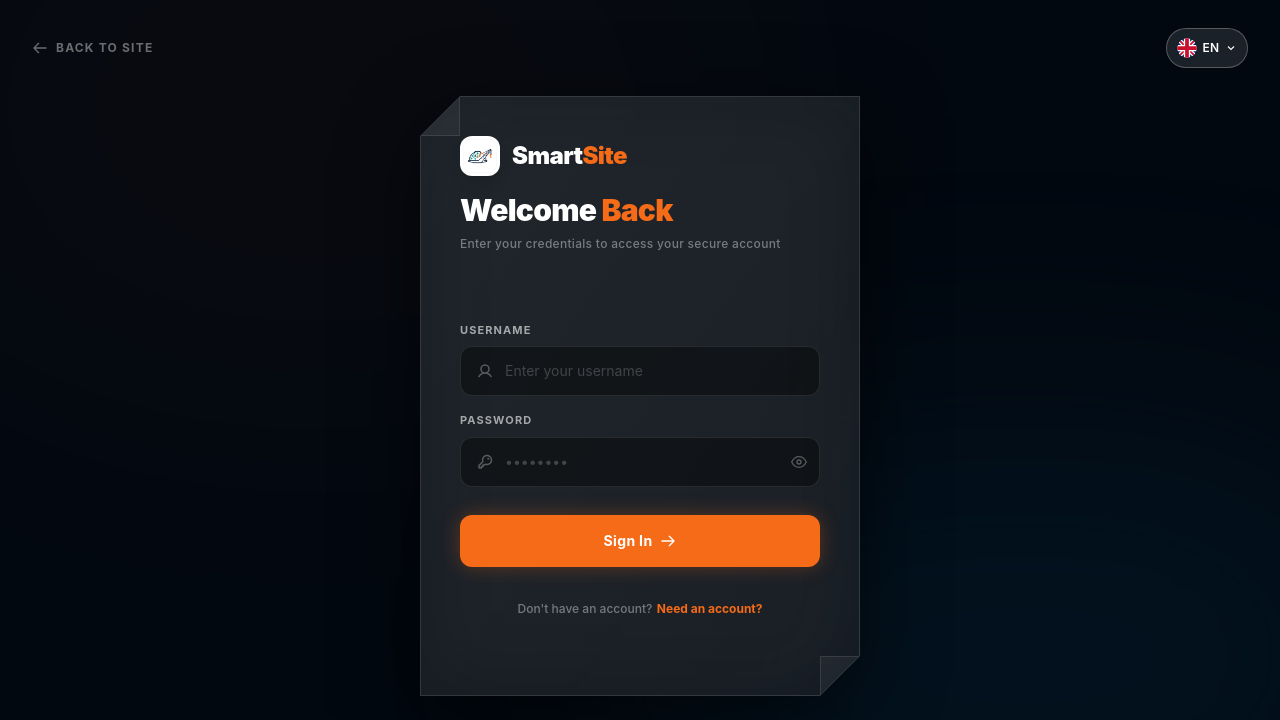
Test: keeps entered credentials and the network error visible when sign-in fails
Step 1. Type "worker" into the field labelled "Username" → {"x": 654, "y": 371}, box [505, 361, 803, 381]
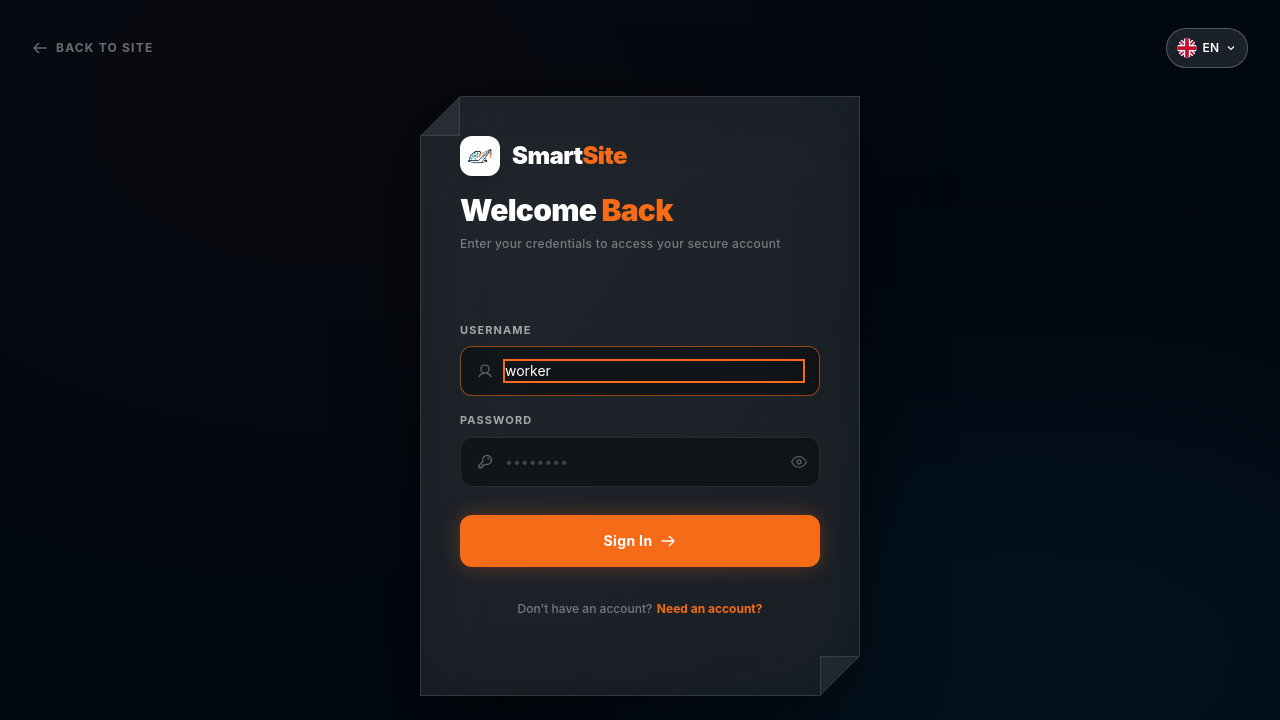
Step 2. Type "SyntheticPassword1!" into the password field labelled "Password" → {"x": 656, "y": 462}, box [505, 452, 807, 472]
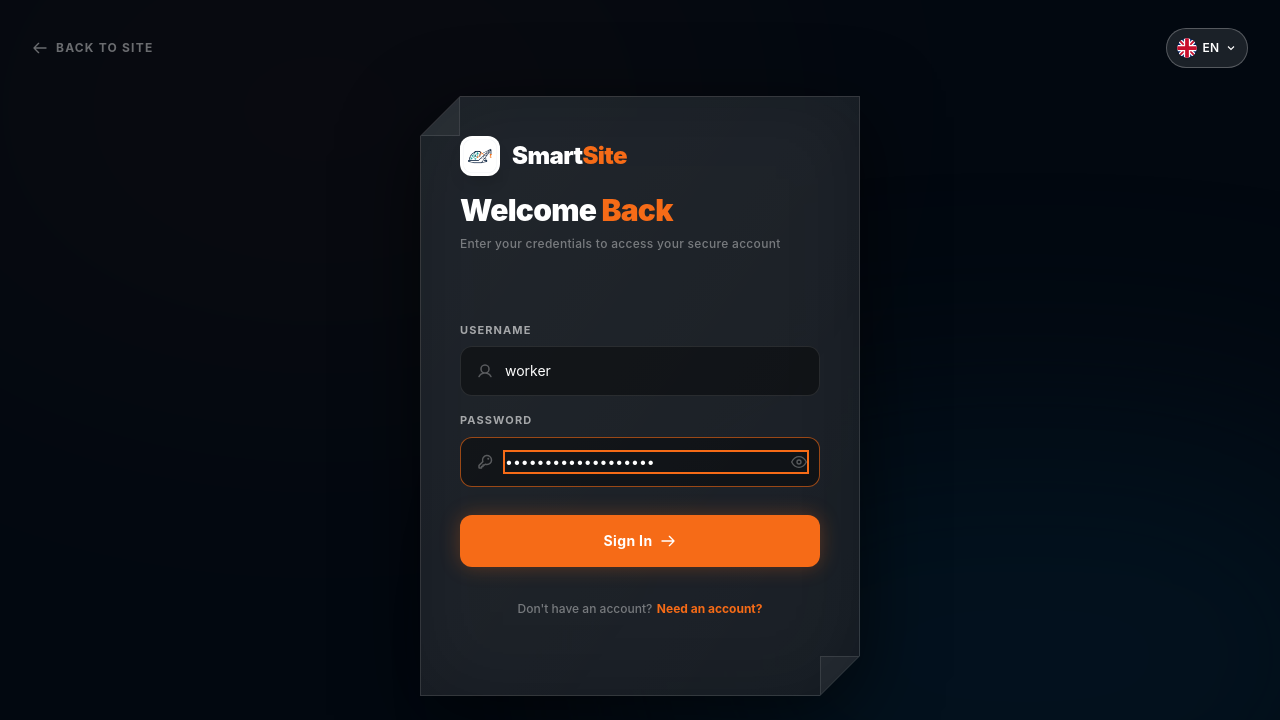
Step 3. Click the button "Sign In" → {"x": 640, "y": 540}, box [460, 514, 820, 566]
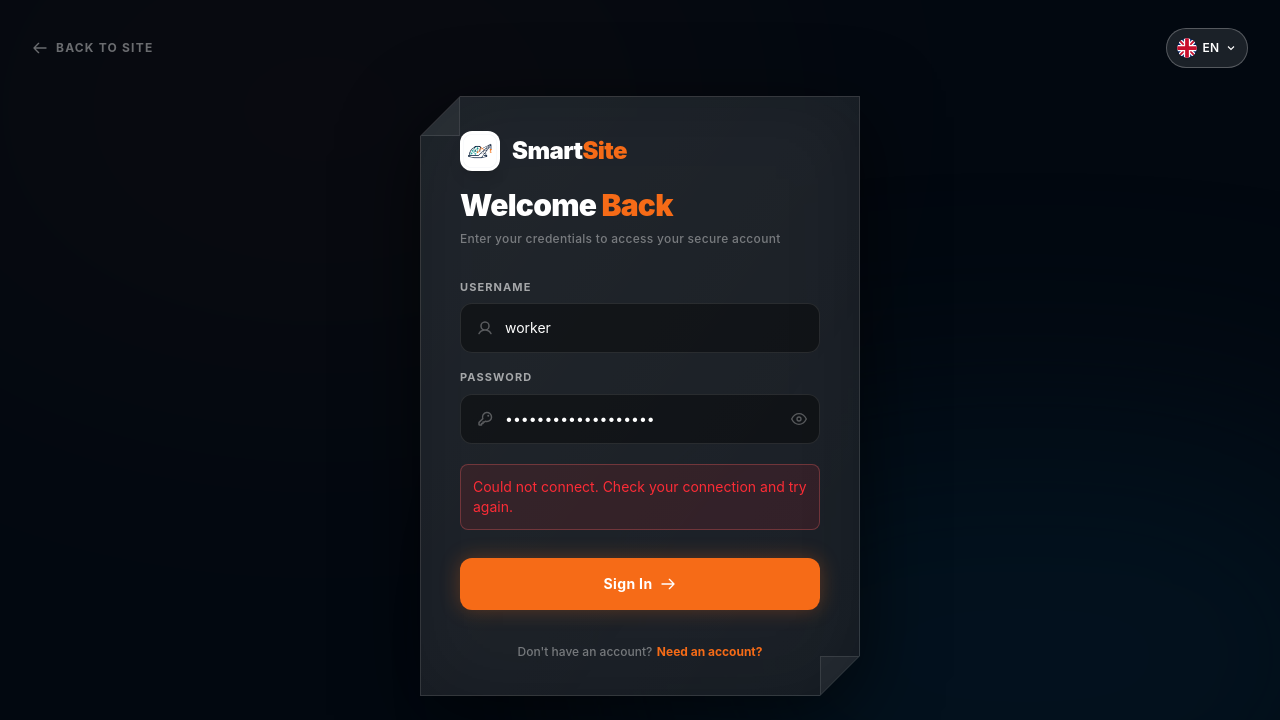
Result: the message shows "Could not connect" at [473, 478, 807, 514]
